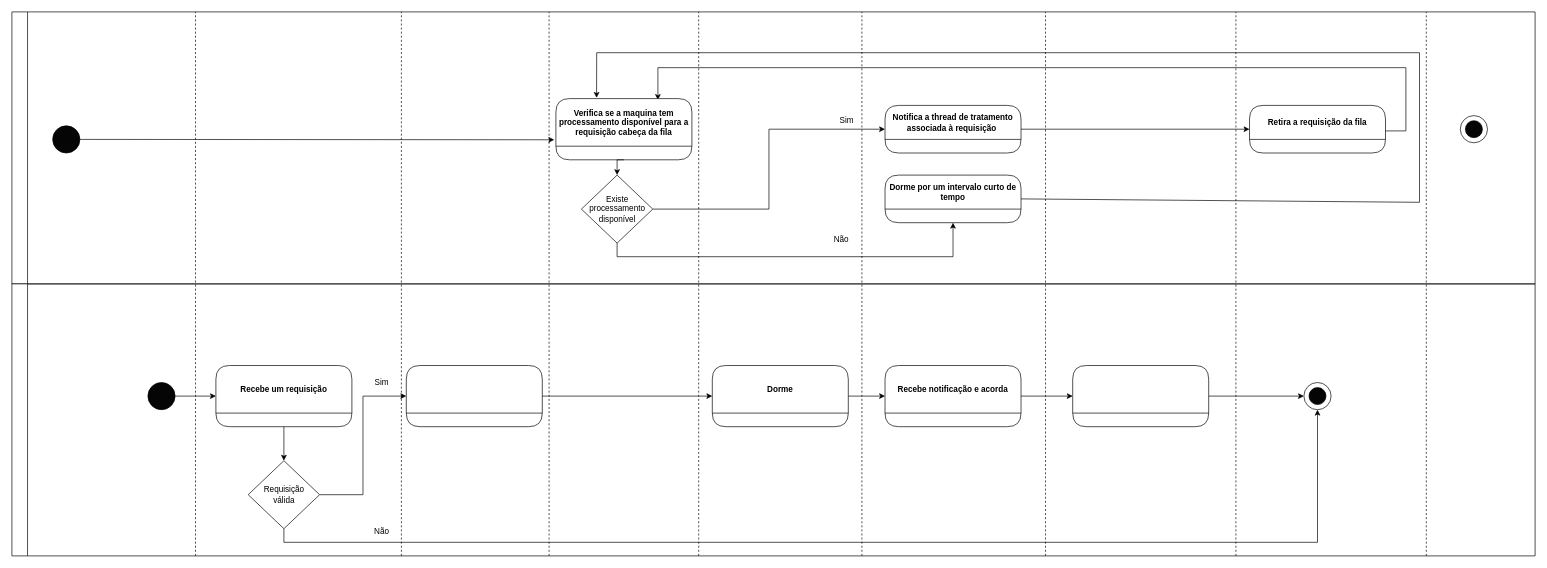
This 1547x568 diagram has some shape labels left out. Each missing label, with the box of its shape:
Entrega a requisição ao gerenciador de recursos: (406, 365, 542, 427)
Gerenciador de recursos: (11, 11, 1535, 284)
Processa a imagem: (1072, 365, 1209, 427)
Thread associada à requsição: (11, 283, 1535, 556)
